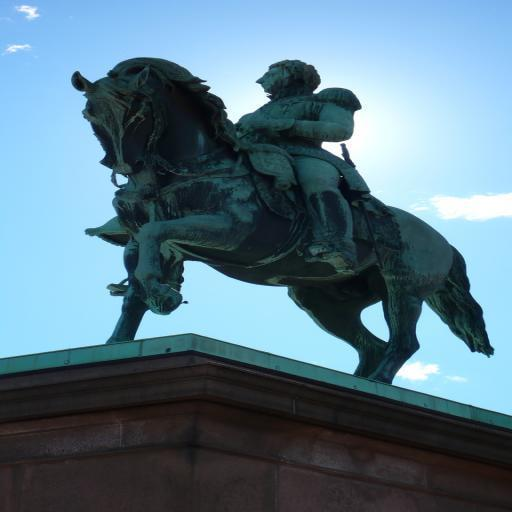horse: (72, 54, 500, 383)
